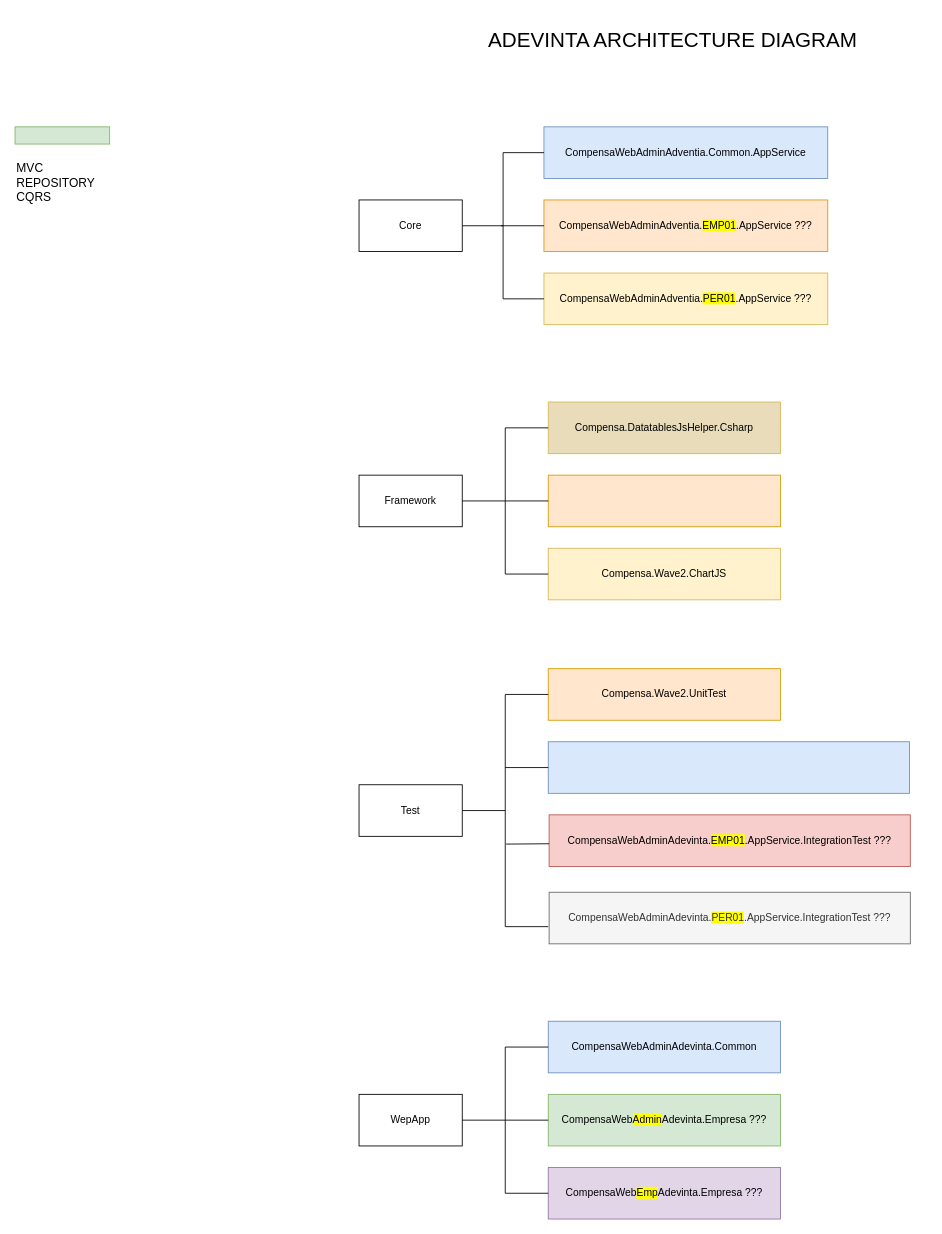
Some shapes in this 942 by 1234 pixel diagram are drawn without their labels. The centre of each missing label's shape, as x and y in pixels:
"Compensa.Wave2" belongs at pixel 663 500.
"CompensaWebAdminAdevinta.Common.AppService.IntegrationTest" belongs at pixel 728 767.
"PATTERNS" belongs at pixel 62 135.
